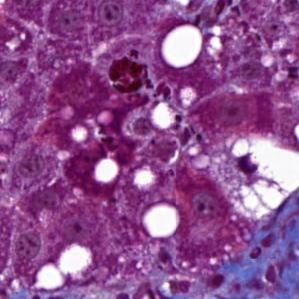ballooning: (214, 127, 296, 224)
